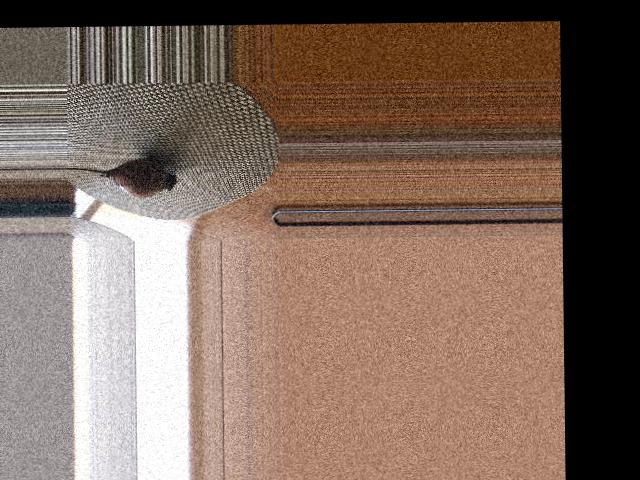beet: (68, 158, 177, 198)
